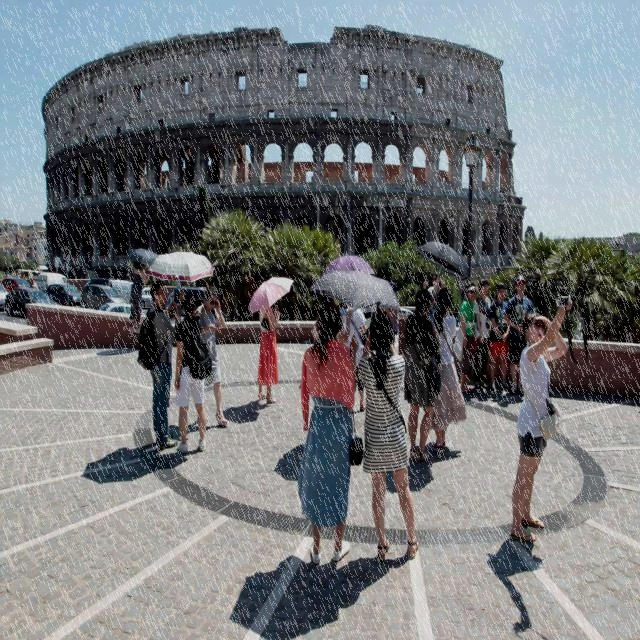pessoa: (296, 298, 366, 568), (506, 281, 577, 545), (356, 308, 420, 561), (137, 278, 181, 450), (170, 292, 212, 456), (403, 288, 441, 466), (427, 286, 467, 454), (484, 532, 546, 639), (192, 286, 230, 431), (504, 274, 534, 397), (336, 301, 368, 413), (488, 281, 512, 393), (310, 294, 354, 347), (256, 306, 280, 403), (422, 272, 446, 366), (458, 284, 478, 394), (473, 277, 491, 389), (128, 258, 153, 332), (381, 281, 400, 346), (98, 336, 142, 362), (1, 268, 36, 288)
